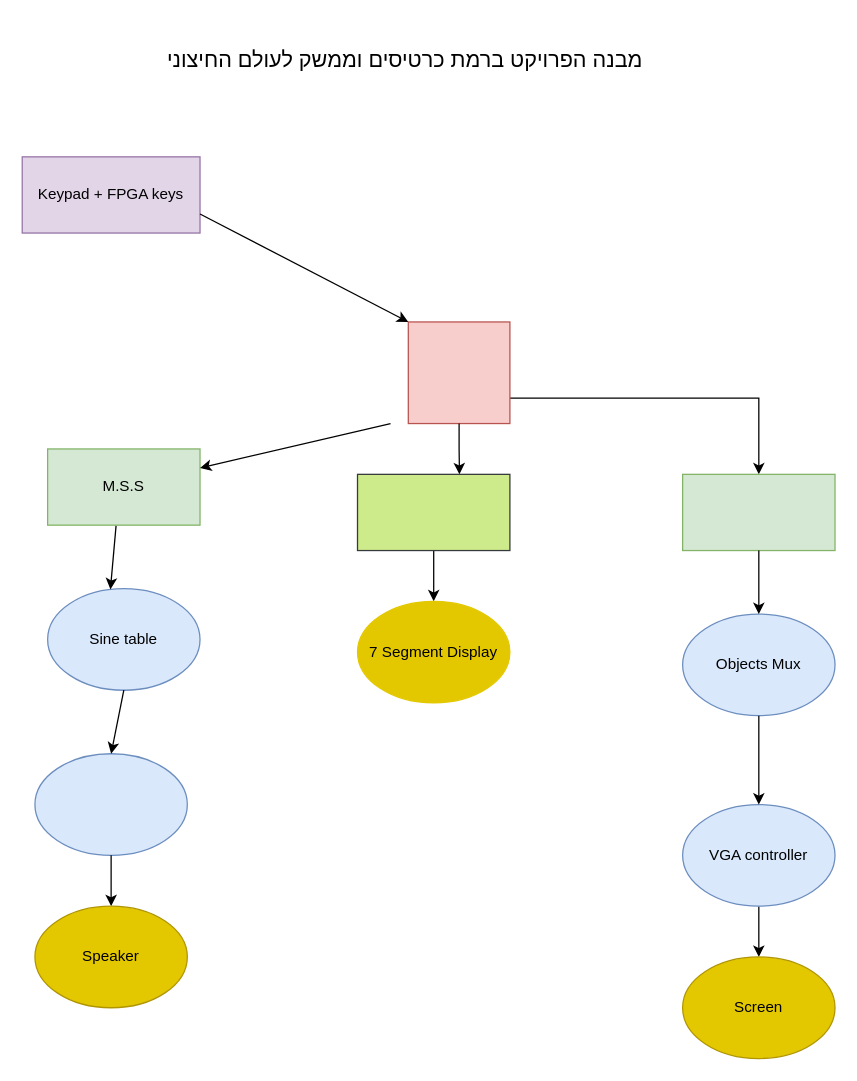
Some shapes in this 857 by 1081 pixel diagram are drawn without their labels. Each missing label, with the centre of its shape:
"Digital 2 Analog Converter" goes at [110,803].
"Graphics" goes at [758,512].
"Multi_Hex_Display" goes at [433,512].
"The Code" goes at [458,372].
